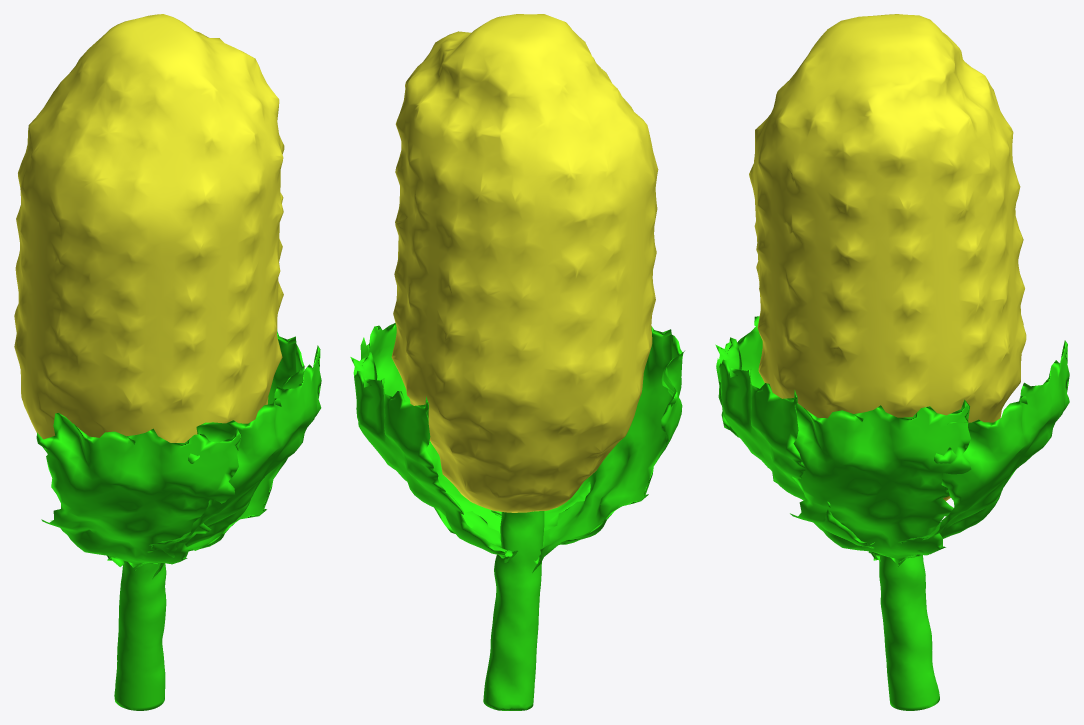
Rendered from corn.glb.
The picture shows the model from 3 angles, left to right: view 1: azimuth 30°, elevation 25°; view 2: azimuth 150°, elevation 25°; view 3: azimuth 270°, elevation 25°; orthographic projection.
Parts seen in each view (by area): view 1: Cylinder, Square.0003, Square.0002, Cylinder_001, Square.0001; view 2: Cylinder, Square.0003, Cylinder_001, Square, Square.0001, Square.0002; view 3: Cylinder, Square.0001, Square, Square.0002, Cylinder_001, Square.0003.
Boxes of the visible parts, x1,y1,x2,y2 form: Cylinder: (14,14,284,442); Square.0003: (36,413,241,570); Square.0002: (139,345,321,566); Cylinder_001: (114,560,166,710); Square.0001: (152,329,304,579); Cylinder: (391,14,658,512); Square.0003: (532,326,684,572); Cylinder_001: (483,511,544,710); Square: (350,352,517,562); Square.0001: (360,323,501,533); Square.0002: (491,481,590,531); Cylinder: (749,14,1026,500); Square.0001: (790,399,971,567); Square: (898,340,1069,553); Square.0002: (715,337,874,553); Cylinder_001: (879,554,939,710); Square.0003: (716,316,777,483).
Bounding box in the file's own units: 1.58 × 3.75 × 1.77.
